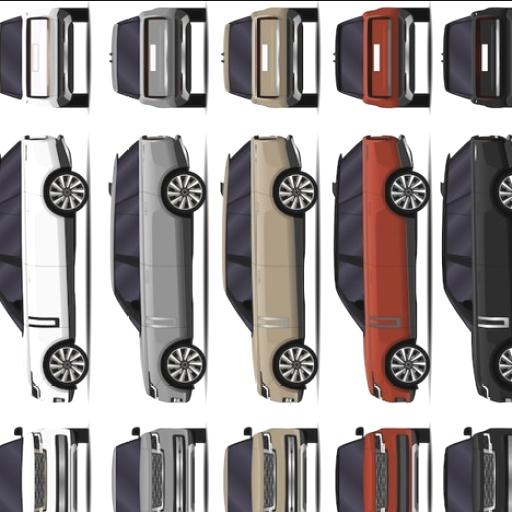suv: (331, 135, 429, 400), (109, 135, 205, 400), (221, 135, 316, 400), (0, 135, 86, 400), (440, 135, 512, 400), (110, 5, 205, 106), (222, 5, 316, 106), (334, 5, 428, 106), (0, 5, 86, 106), (110, 426, 205, 512), (222, 426, 316, 512), (335, 427, 429, 512), (0, 426, 86, 512), (443, 5, 512, 106), (443, 426, 512, 512)
